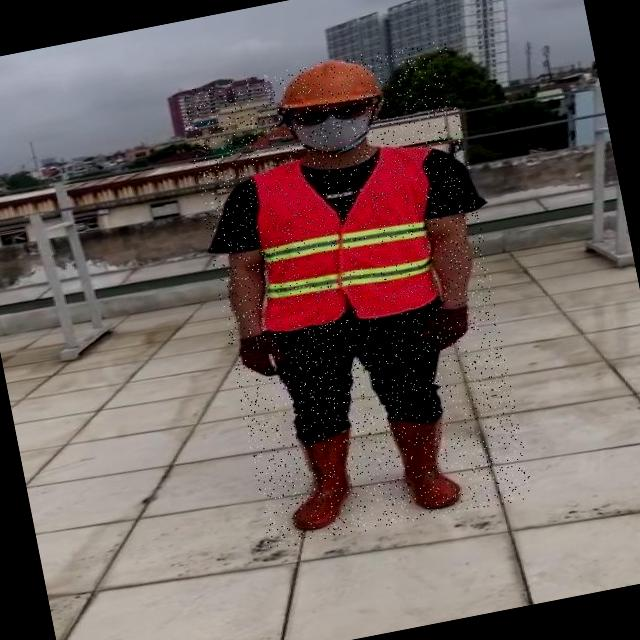boots: (280, 429, 365, 534), (388, 411, 466, 514)
gloves: (416, 302, 477, 353), (236, 325, 292, 378)
helmet: (274, 51, 388, 117)
vest: (236, 138, 456, 338)
